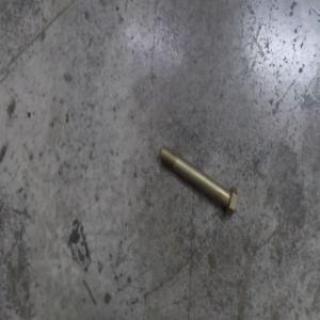Bolttrack_idkeyframe: (158, 140, 237, 217)
